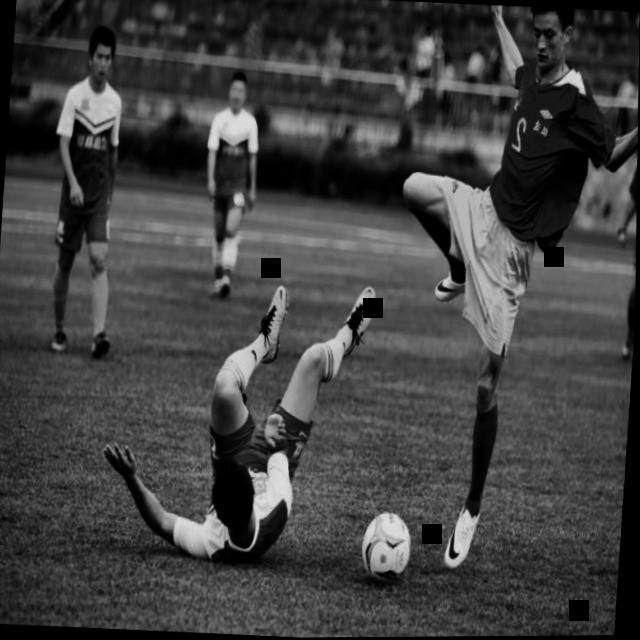Fall-Detected: (102, 254, 393, 575)
